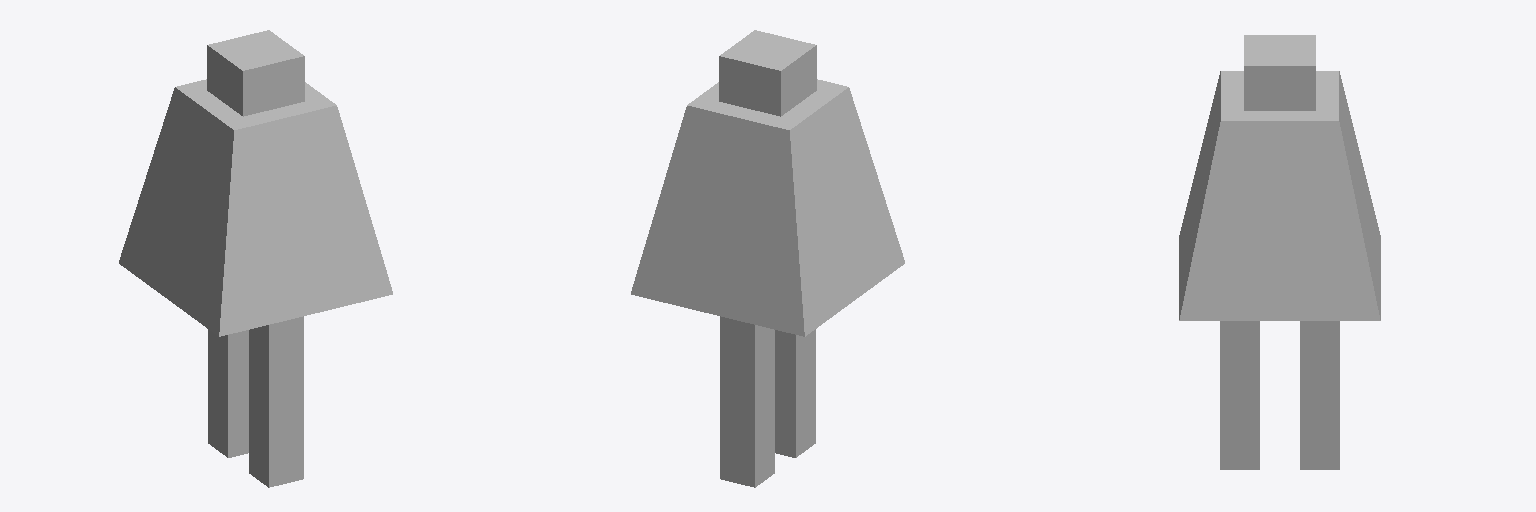
Rendered from essai-stand_000012.obj.
3 views of the same model, side by side, from view 1: azimuth 30°, elevation 25°; view 2: azimuth 150°, elevation 25°; view 3: azimuth 270°, elevation 25° (orthographic).
Parts seen in each view (by area): view 1: Cube; view 2: Cube; view 3: Cube.
Boxes of the visible parts, x1,y1,x2,y2 form: Cube: [119, 30, 392, 487]; Cube: [631, 30, 904, 487]; Cube: [1179, 35, 1380, 469].
Size of the model in its own units: 2 by 4.5 by 2.